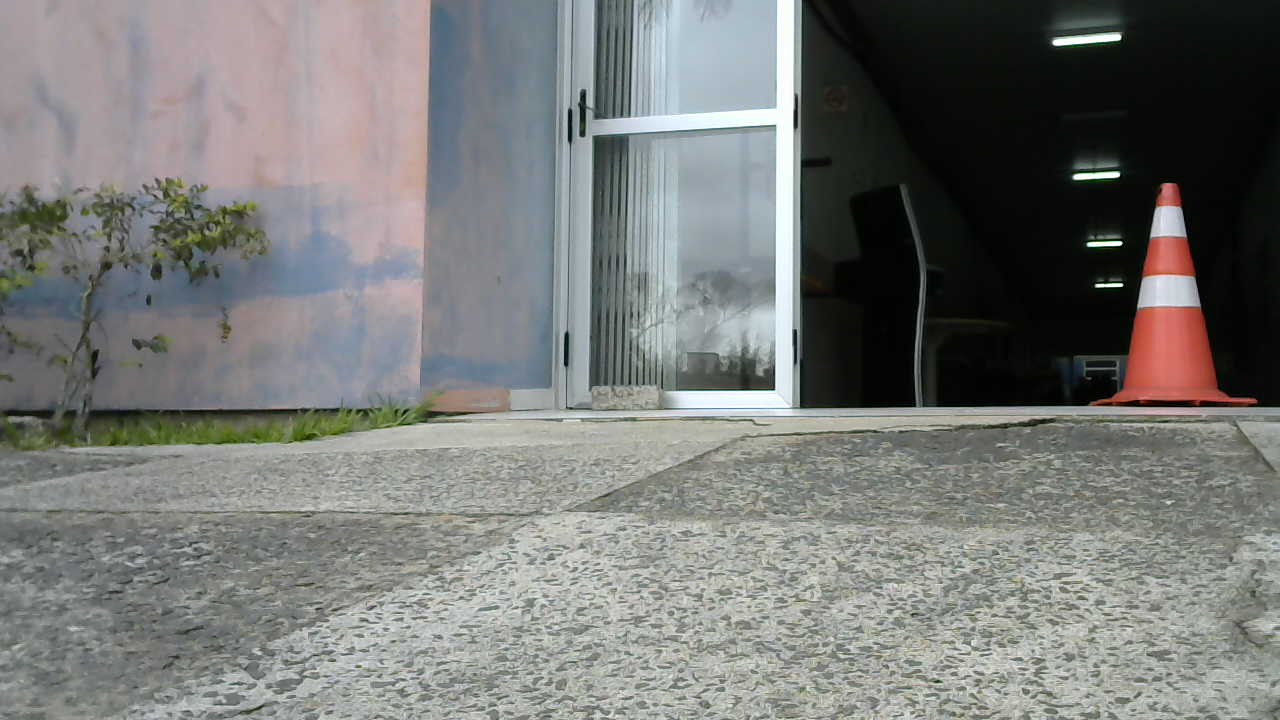cone: (1100, 183, 1262, 406)
